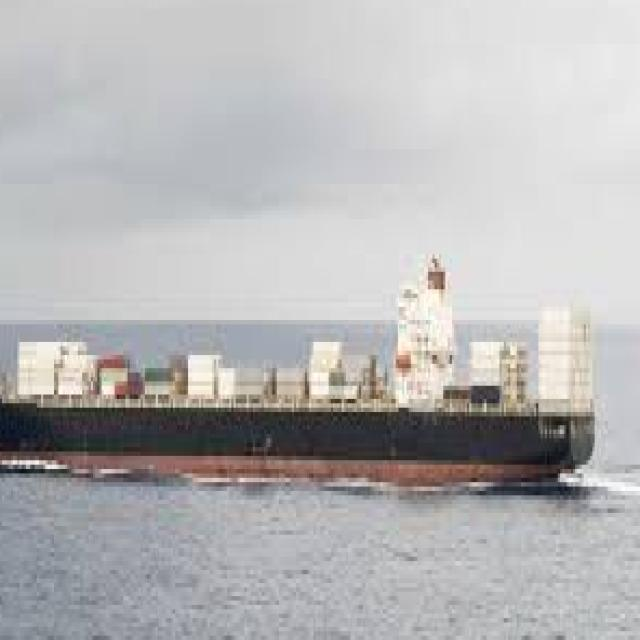cargoship: (0, 246, 595, 482)
